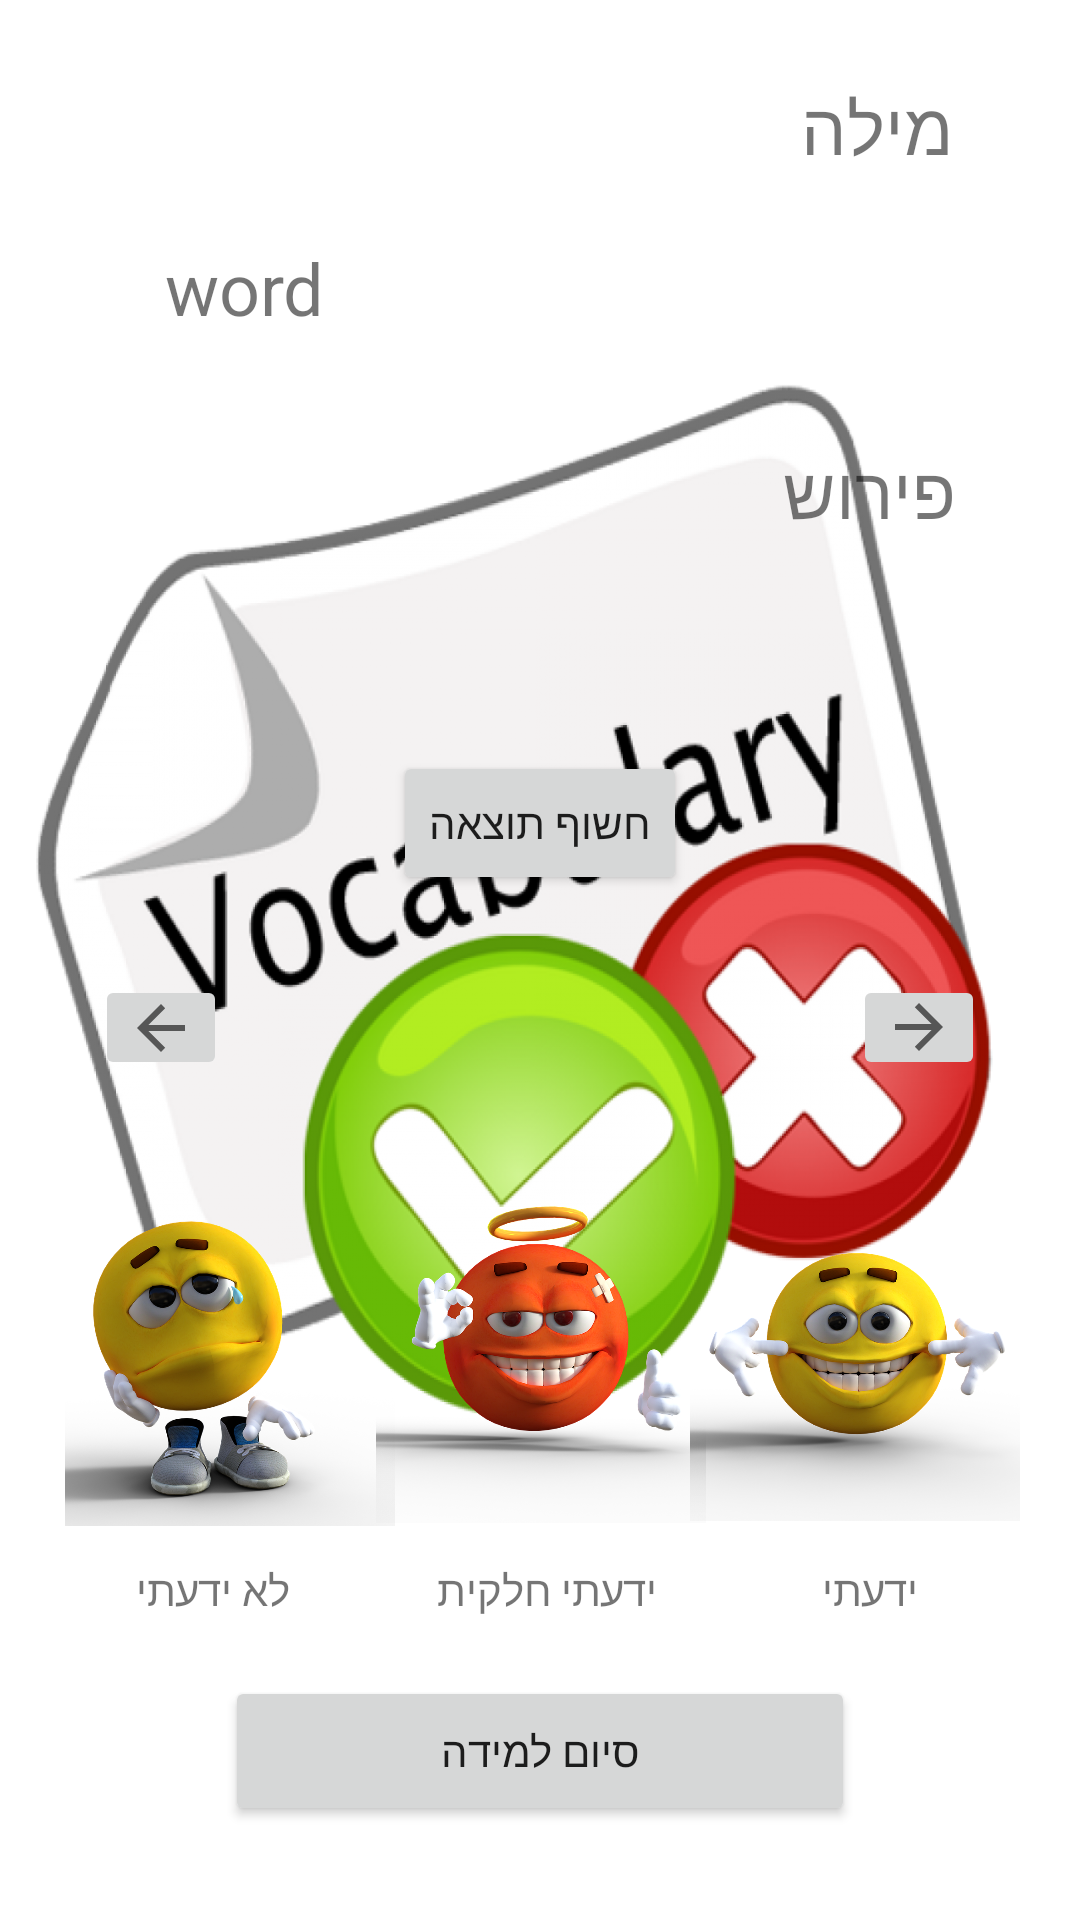

Named icons in this screenshot (1080 × 1920) and their centers, (x,y):
happy: (847,1338)
sad: (230,1361)
